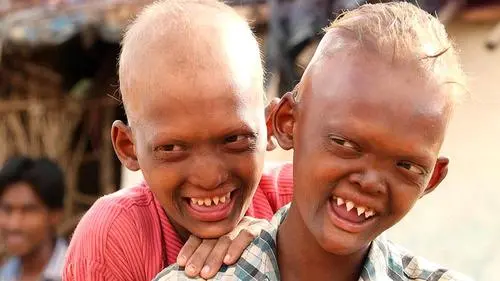withoutmask: (293, 7, 468, 260), (113, 7, 286, 239)
